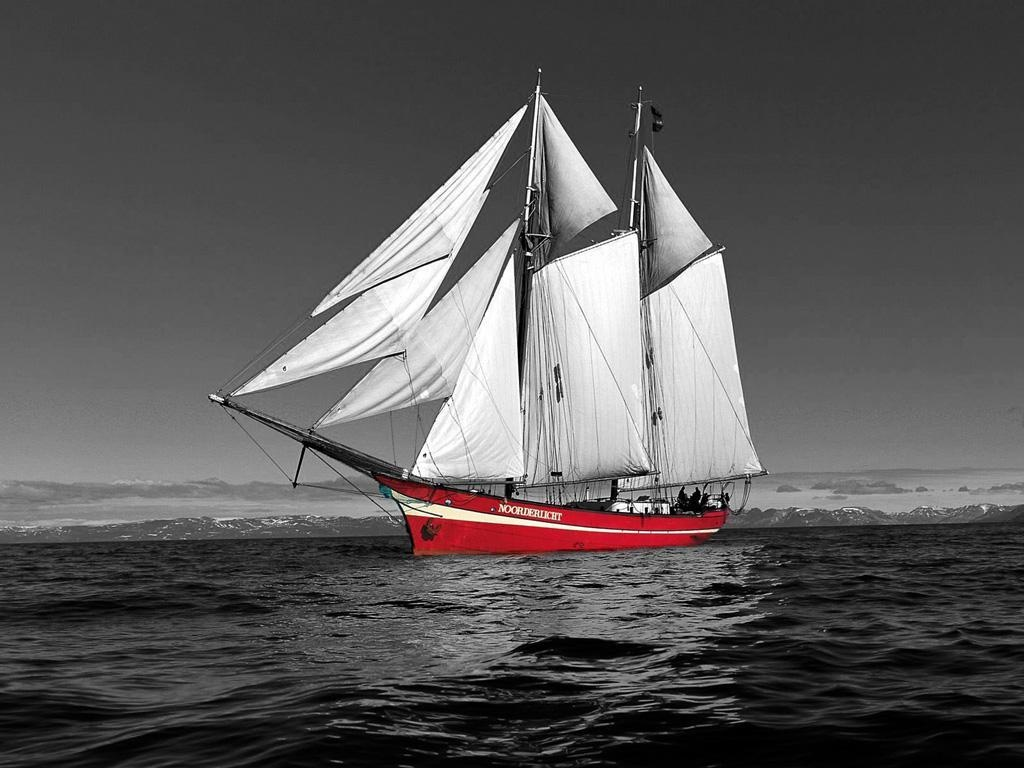fanchuan: (197, 81, 755, 560)
